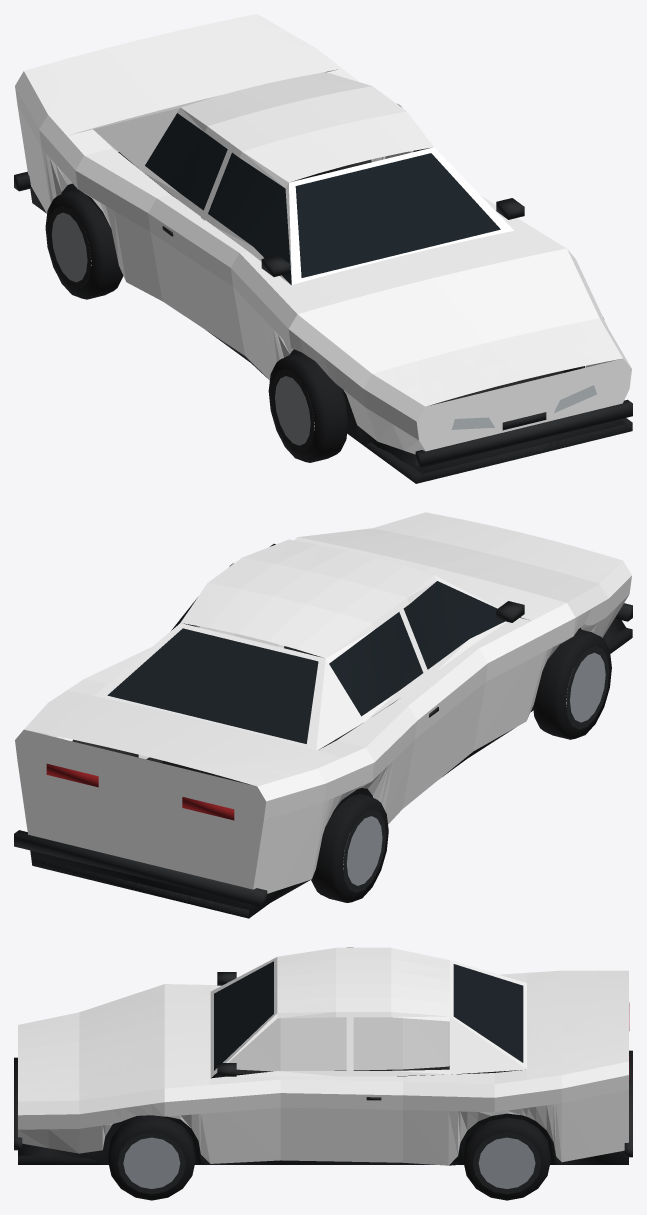
Rendered from halberton_violino.glb.
3 views of the same model, one above another, from view 1: azimuth 30°, elevation 25°; view 2: azimuth 150°, elevation 25°; view 3: azimuth 270°, elevation 25° (orthographic). The views are drawn at different scales.
Parts seen in each view (by area): view 1: Body_Paint, Body_Details, Mount_FrontLeft_Wheel_Details, Mount_RearLeft_Wheel_Details; view 2: Body_Paint, Body_Details, Mount_FrontLeft_Wheel_Details, Mount_RearLeft_Wheel_Details; view 3: Body_Paint, Body_Details, Mount_FrontRight_Wheel_Details, Mount_RearRight_Wheel_Details.
Part boxes in pixels (x1,y1,x2,y2): Body_Paint: (15, 14, 631, 454); Body_Details: (14, 113, 632, 483); Mount_FrontLeft_Wheel_Details: (268, 352, 348, 462); Mount_RearLeft_Wheel_Details: (45, 189, 123, 299); Body_Paint: (15, 512, 631, 893); Body_Details: (14, 544, 632, 918); Mount_FrontLeft_Wheel_Details: (533, 629, 611, 739); Mount_RearLeft_Wheel_Details: (311, 793, 388, 902); Body_Paint: (18, 947, 628, 1165); Body_Details: (14, 961, 632, 1165); Mount_FrontRight_Wheel_Details: (108, 1115, 195, 1200); Mount_RearRight_Wheel_Details: (463, 1117, 550, 1200).
Bounding box in the file's own units: 1.85 × 1.25 × 4.16.
Materials: 2 (1 with a texture image).
